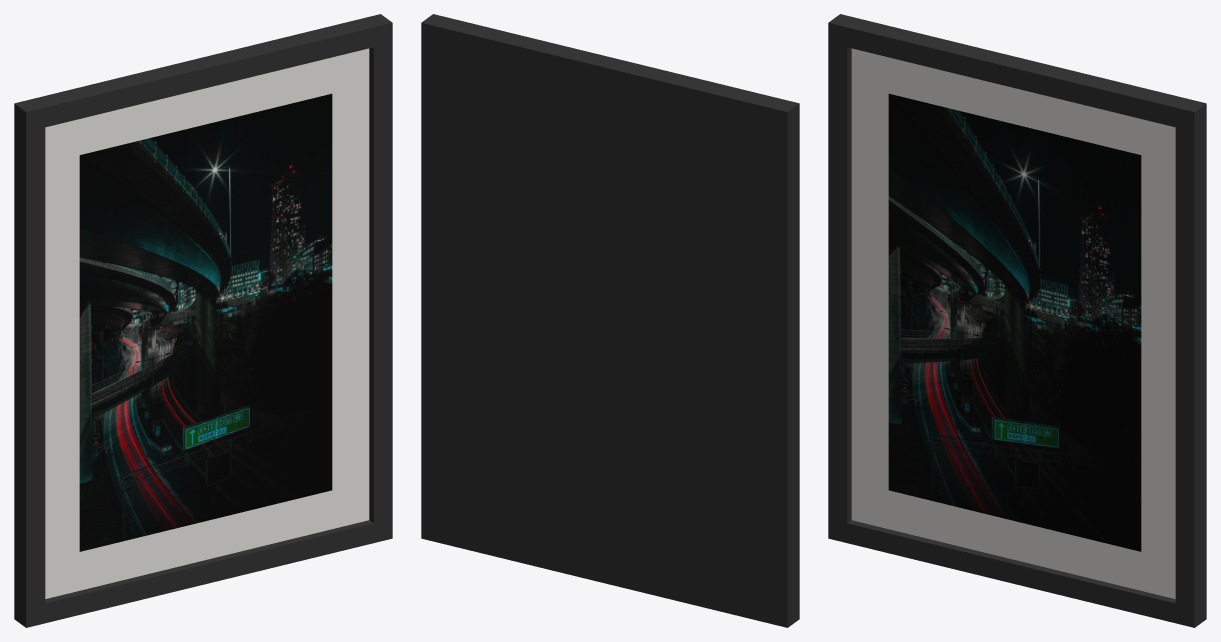
The model's file is norrtull-natt-40.gltf.
The picture shows the model from 3 angles, left to right: view 1: azimuth 30°, elevation 25°; view 2: azimuth 150°, elevation 25°; view 3: azimuth 330°, elevation 25°; orthographic projection.
Visible parts, largest first — view 1: tavla; view 2: tavla; view 3: tavla.
Boxes of the visible parts, x1=… form: tavla: x1=14, y1=14, x2=392, y2=627; tavla: x1=421, y1=14, x2=799, y2=627; tavla: x1=828, y1=14, x2=1206, y2=627.
Size of the model in its own units: 0.3867 by 0.52 by 0.022.
3 materials, 1 textured.
